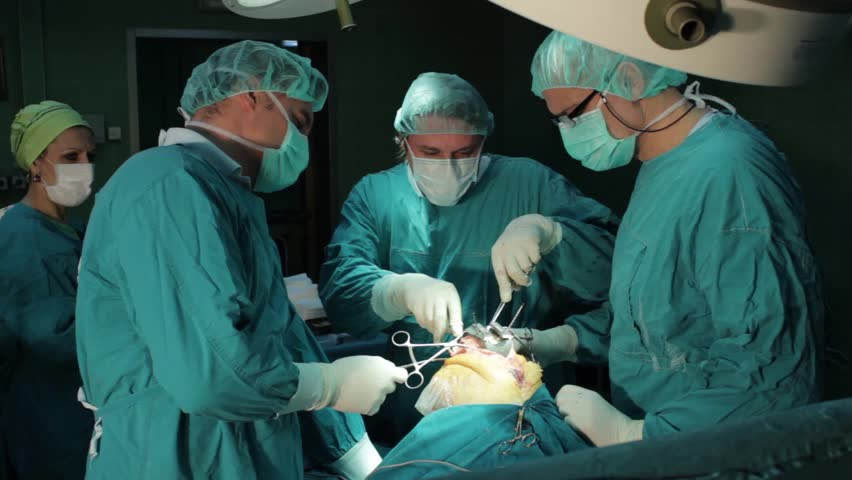Gloves: (307, 351, 410, 420), (486, 210, 559, 304), (371, 266, 467, 337), (555, 385, 648, 450)
with_mask: (553, 105, 645, 173), (256, 102, 313, 197), (413, 136, 478, 203), (46, 145, 99, 207)
